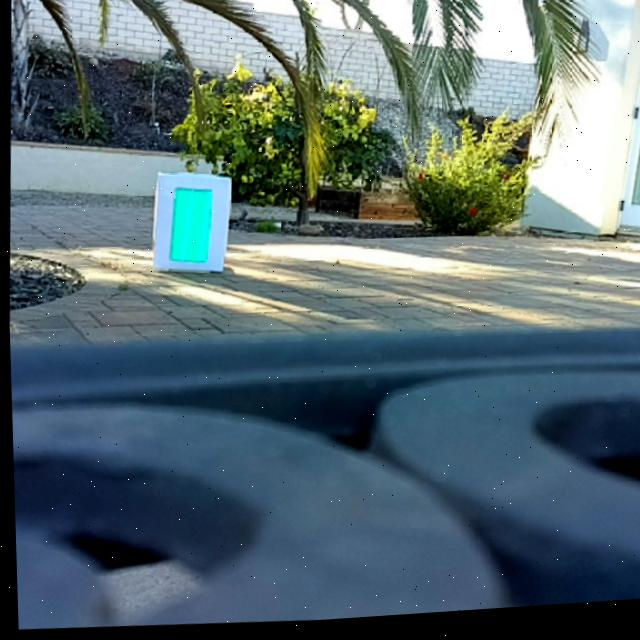led: (164, 186, 216, 269)
